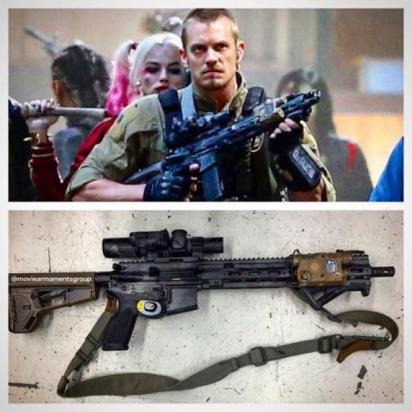Gun: (5, 226, 402, 356), (123, 83, 319, 202)
